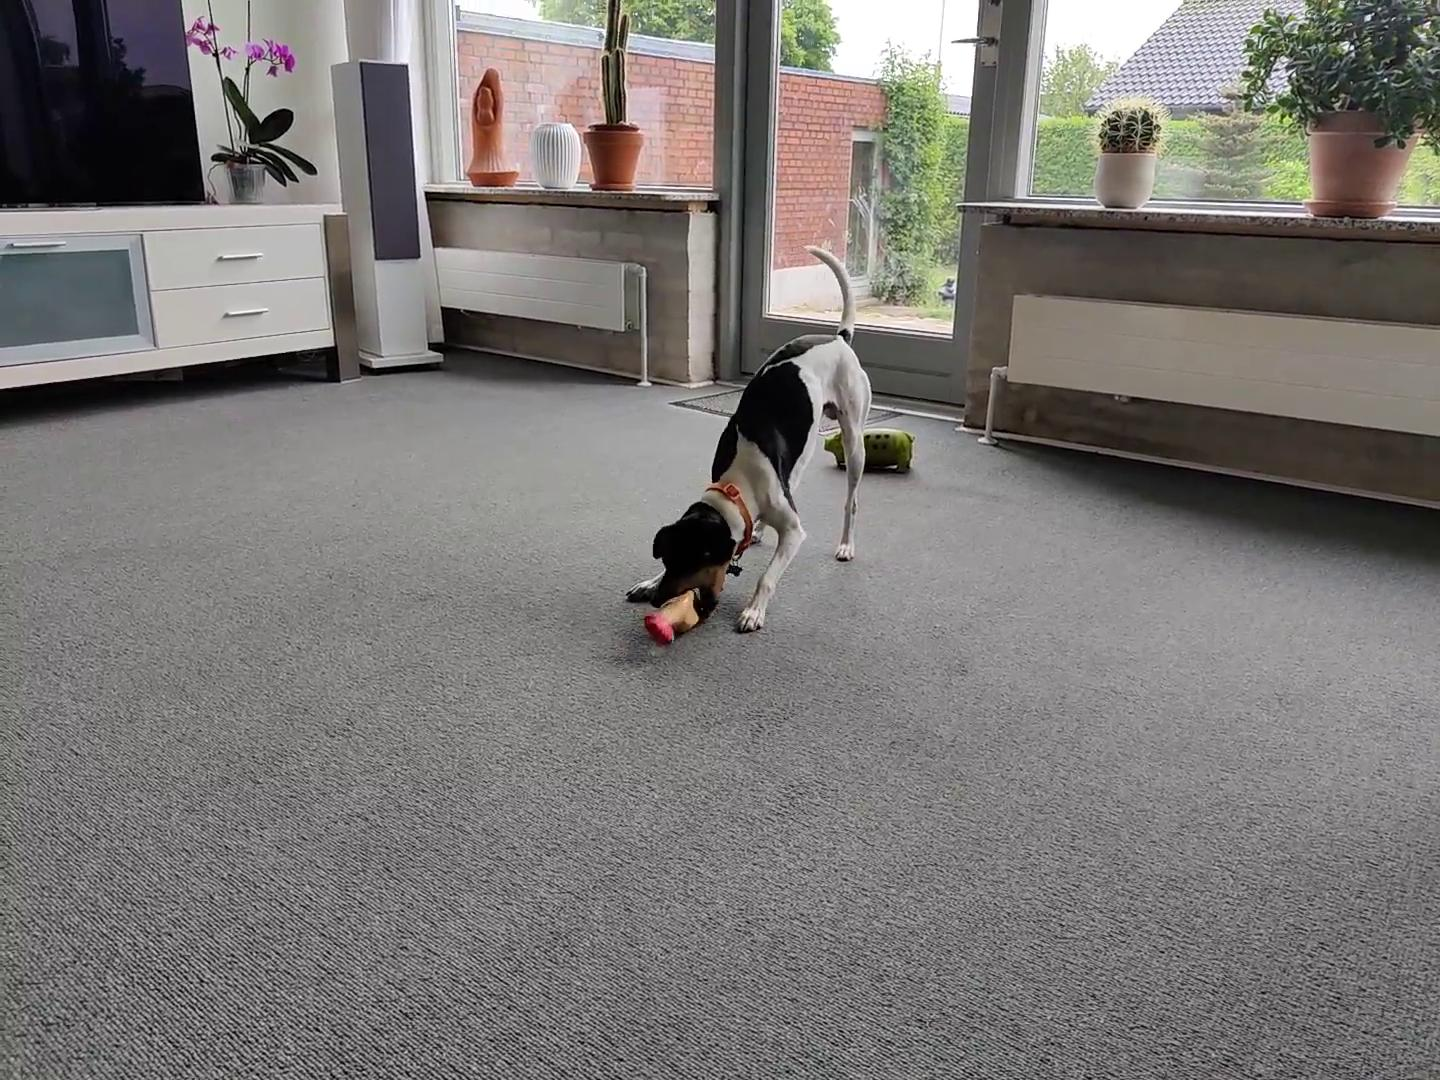Dog: (619, 243, 875, 635)
